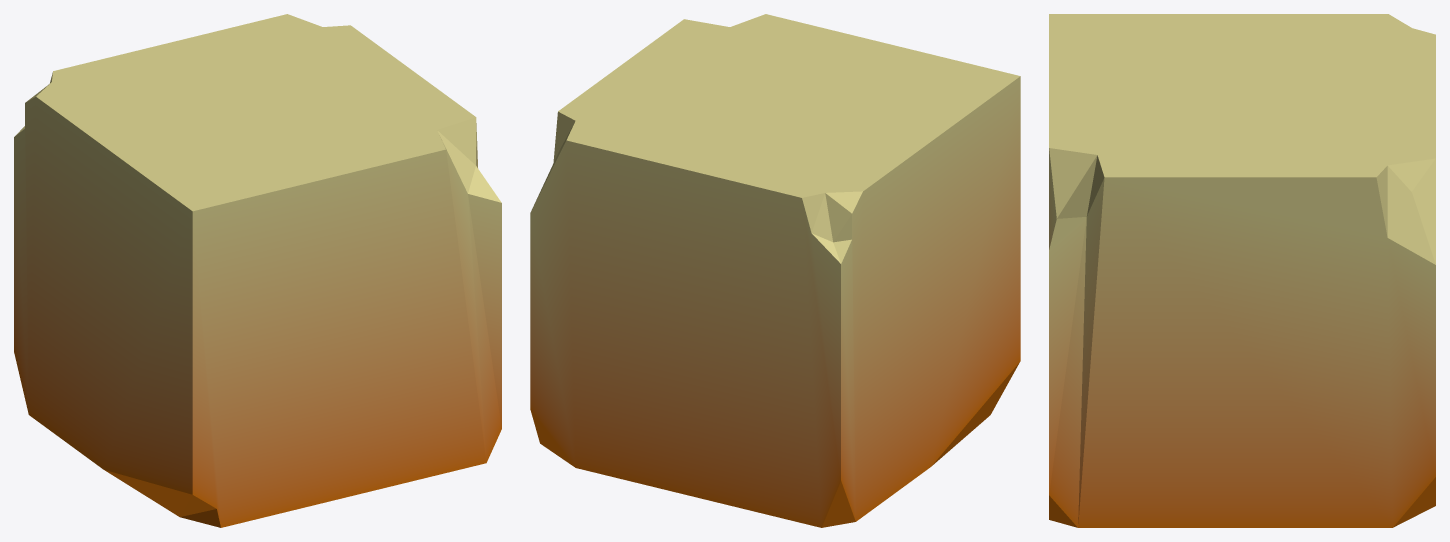
The model's file is EnemyStoneAdd.gltf.
3 views of the same model, side by side, from view 1: azimuth 30°, elevation 25°; view 2: azimuth 150°, elevation 25°; view 3: azimuth 270°, elevation 25° (orthographic). The views are drawn at different scales.
Parts seen in each view (by area): view 1: EnemyStoneAddMesh; view 2: EnemyStoneAddMesh; view 3: EnemyStoneAddMesh.
Boxes of the visible parts, x1=… form: EnemyStoneAddMesh: x1=14, y1=14, x2=501, y2=527; EnemyStoneAddMesh: x1=530, y1=14, x2=1020, y2=527; EnemyStoneAddMesh: x1=1049, y1=14, x2=1435, y2=527.
Bounding box in the file's own units: 2.02 × 2.02 × 2.02.
